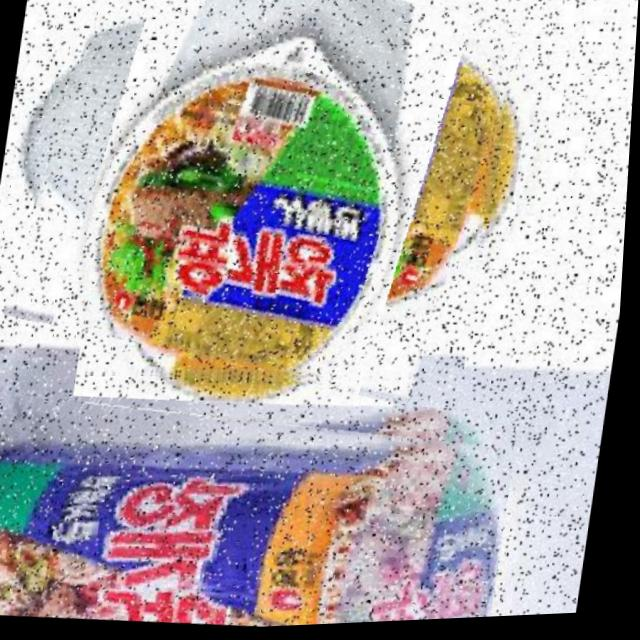Miscellaneous: (12, 0, 519, 410), (0, 368, 527, 640)
